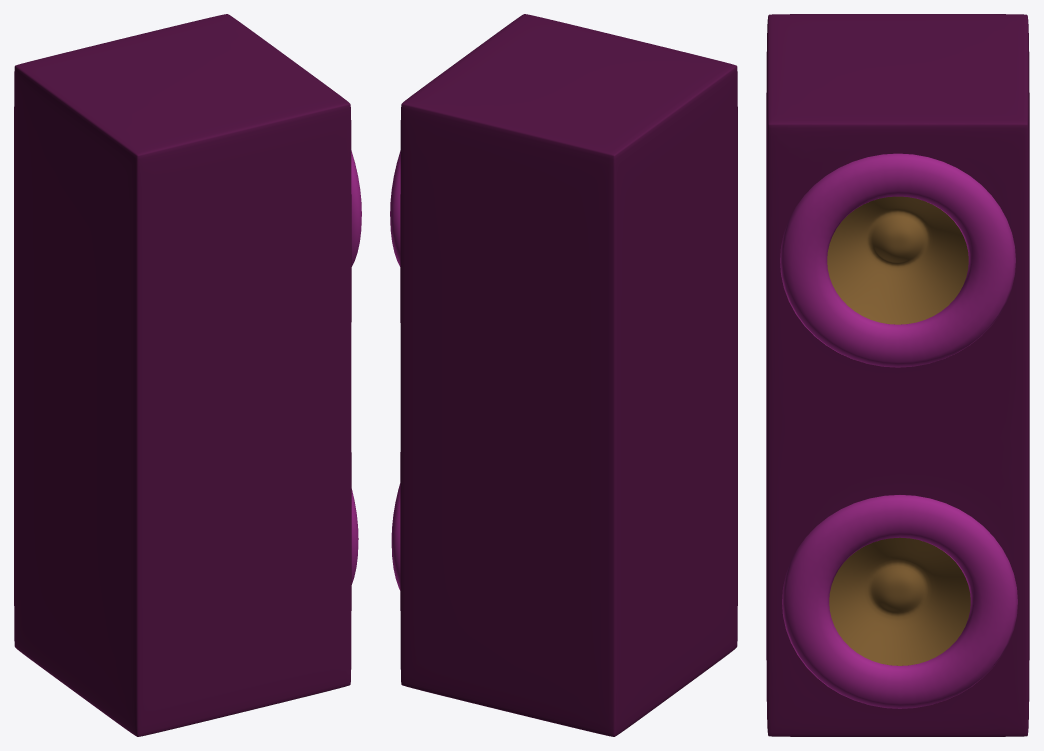
Rendered from Tallboy.fbx.
3 views of the same model, side by side, from view 1: azimuth 30°, elevation 25°; view 2: azimuth 150°, elevation 25°; view 3: azimuth 270°, elevation 25° (orthographic). The views are drawn at different scales.
Visible parts, largest first — view 1: Cube.001, Torus.002; view 2: Cube.001, Torus.002, Torus.001; view 3: Cube.001, Torus.001, Torus.002.
Boxes of the visible parts, <box> form: Cube.001: <box>14,14,351,736</box>; Torus.002: <box>351,150,361,266</box>; Cube.001: <box>400,14,737,736</box>; Torus.002: <box>390,150,400,266</box>; Torus.001: <box>391,483,400,590</box>; Cube.001: <box>766,14,1029,736</box>; Torus.001: <box>782,495,1017,708</box>; Torus.002: <box>780,153,1015,367</box>.
Bounding box in the file's own units: 67.17 × 157 × 60.96.
